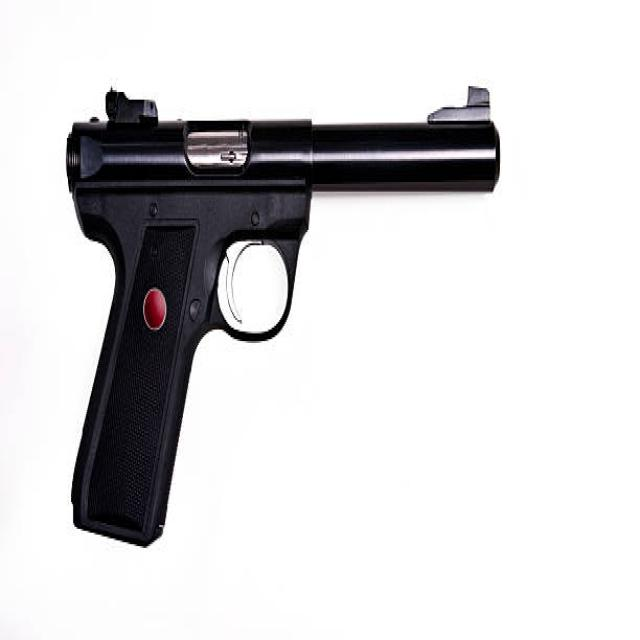pistol: (57, 80, 506, 552)
